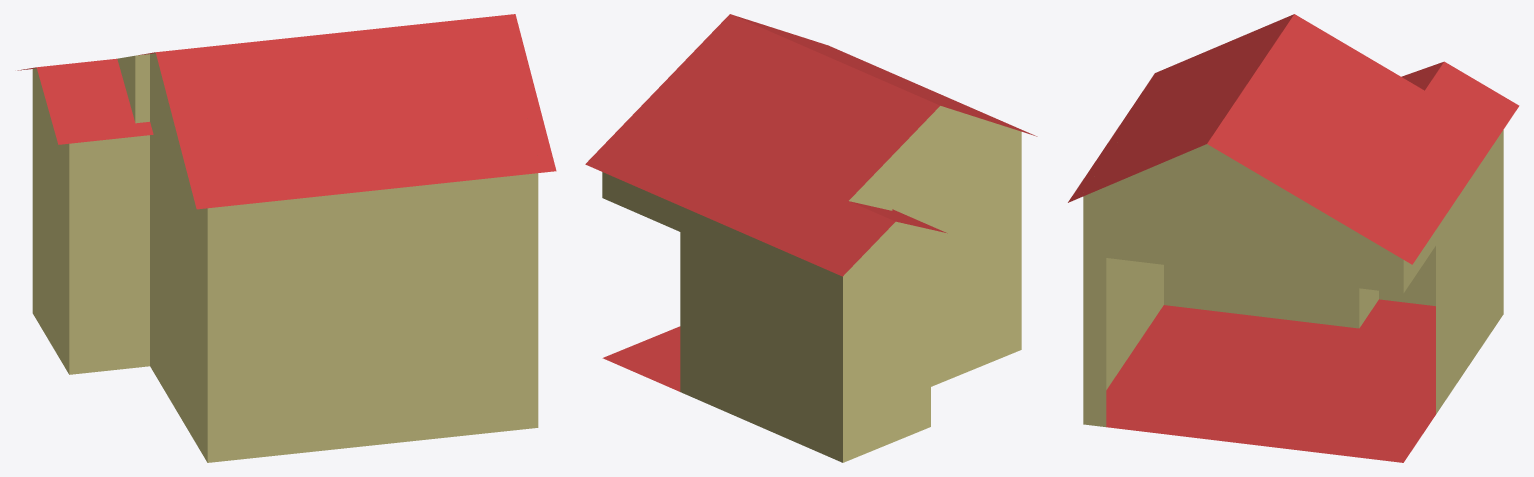
3 views of the same model, side by side, from view 1: azimuth 30°, elevation 25°; view 2: azimuth 150°, elevation 25°; view 3: azimuth 270°, elevation 25° (orthographic). The views are drawn at different scales.
Size of the model in its own units: 16.21 by 17.48 by 12.85.
